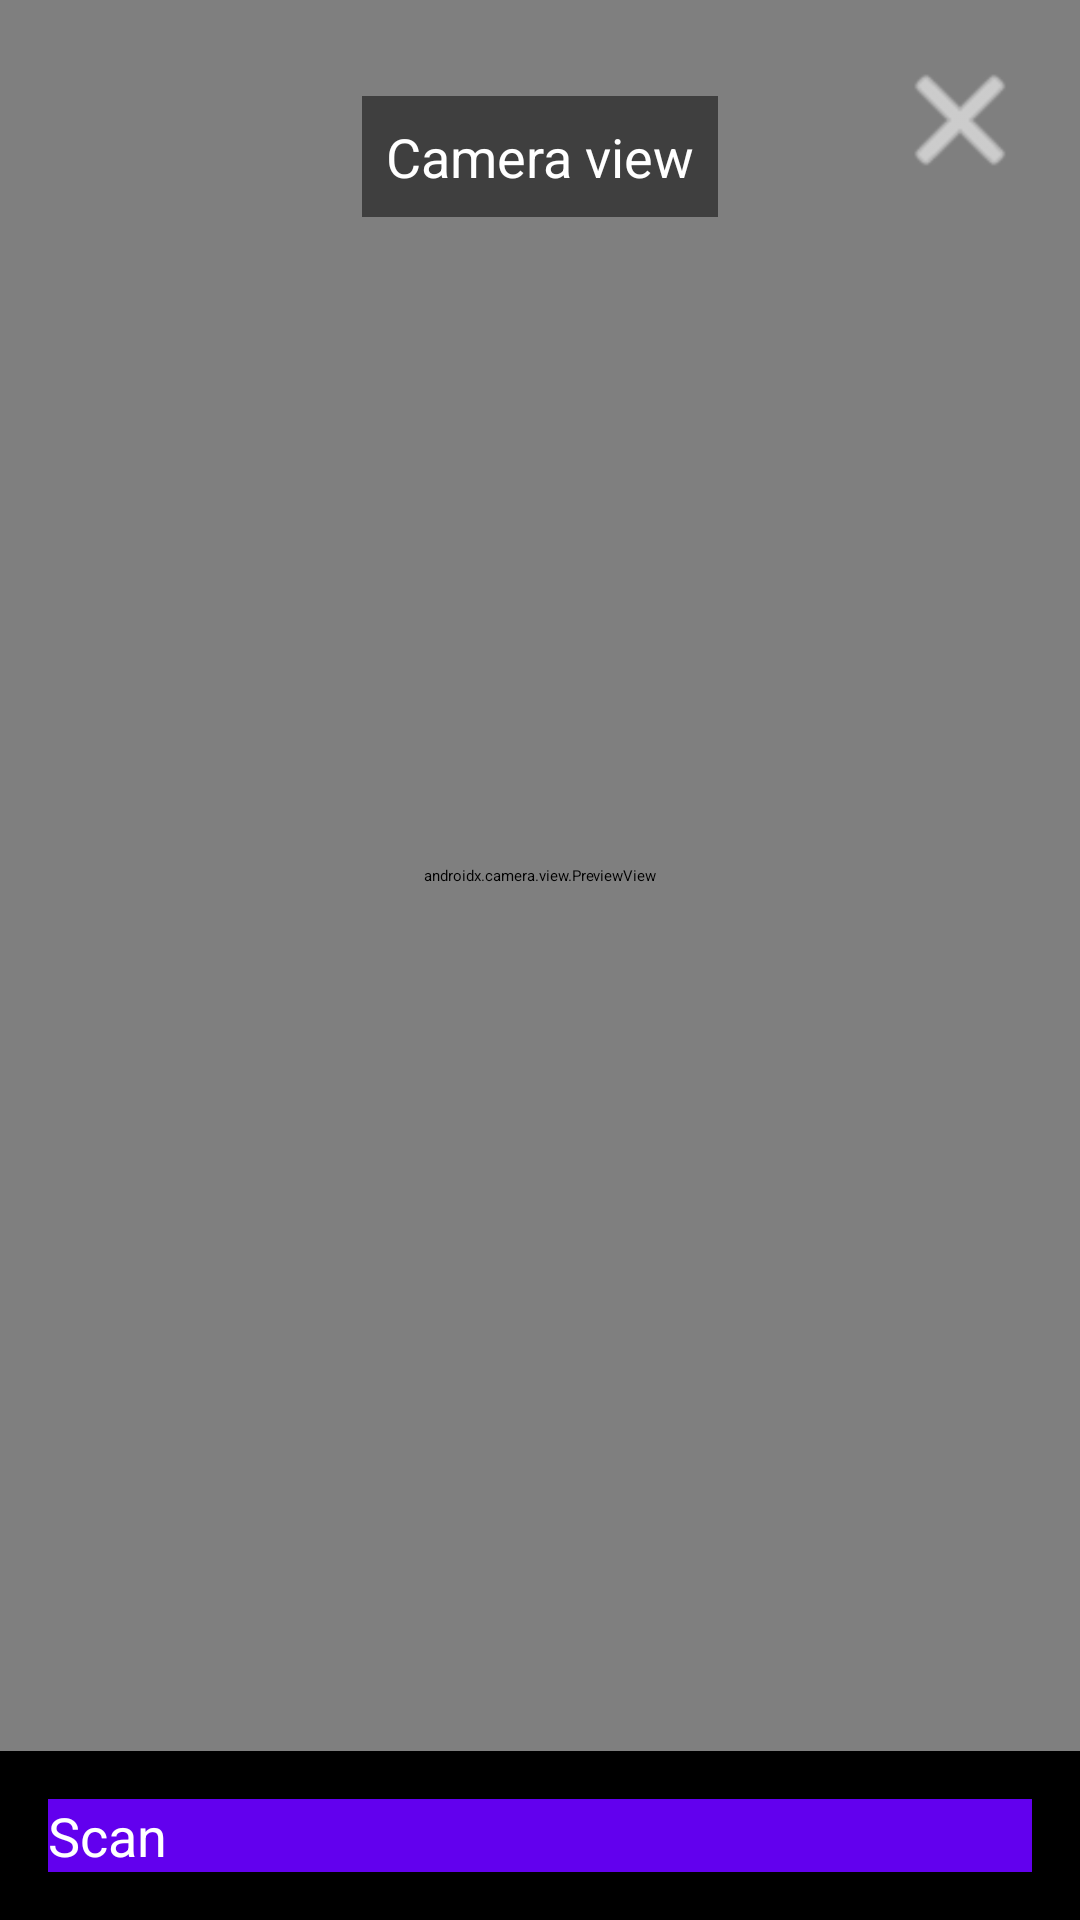

Icons on this 1080x1920 Android screen, each with the point to tap as (x=x, y=y):
close clear cancel: (x=960, y=120)
